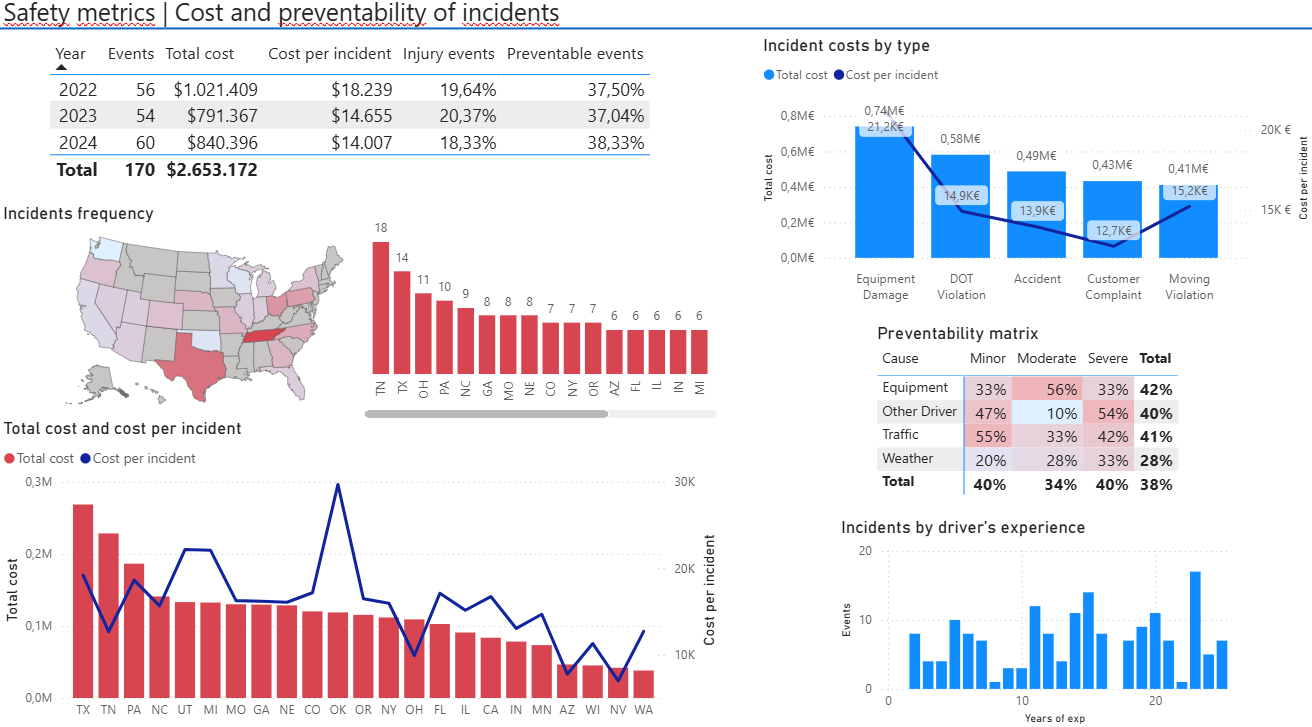

Layout of this report page (visuals, bound fields, positions):
{"tool":"powerbi","page":{"name":"SM","canvas":[1280,720],"ordinal":3},"visuals":[{"type":"textbox","box":[0,0,1279.7,44.8],"z":0},{"type":"shape","box":[0,32.2,1279.7,12.5],"z":1000},{"type":"tableEx","fields":{"Values":["Safety_year_aggregation.incident_year","Sum(Safety_year_aggregation.events)","Sum(Safety_year_aggregation.total_cost)","Safety_year_aggregation.cost_per_incident","Safety_year_aggregation.%_injury_events","Safety_year_aggregation.%_preventable_events"]},"box":[45.2,45.2,612.3,163.3],"z":2000},{"type":"shapeMap","title":"Incidents frequency","fields":{"Category":["Safety_state.location_state"],"Value":["Sum(Safety_state.events)"]},"box":[0,207.8,401.2,209.6],"z":3000},{"type":"lineStackedColumnComboChart","title":"Total cost and cost per incident","fields":{"Category":["Safety_state.location_state"],"Y":["Sum(Safety_state.total_costs)"],"Y2":["Avg(Safety_state.cost_per_event)"]},"box":[0,417.3,703.9,302.7],"z":4000},{"type":"clusteredColumnChart","fields":{"Category":["Safety_state.location_state"],"Y":["Sum(Safety_state.events)"]},"box":[351.3,208.5,352.8,214.3],"z":5000},{"type":"lineStackedColumnComboChart","title":"Incident costs by type","fields":{"Category":["Safety_type.incident_type"],"Y2":["Sum(Safety_type.cost_per_incident)"],"Y":["Sum(Safety_type.total_cost)"]},"box":[738.8,44.8,540.9,267.8],"z":6000},{"type":"pivotTable","title":"Preventability matrix","fields":{"Rows":["Safety_fulljoin.Cause"],"Columns":["Safety_fulljoin.Entity"],"Values":["Safety_fulljoin.Measure 2"]},"box":[850.1,324.9,319,183.8],"z":7000},{"type":"clusteredColumnChart","title":"Incidents by driver''s experience","fields":{"Category":["Safety_fulljoin.years_experience"],"Y":["CountNonNull(Safety_fulljoin.inc_id)"]},"box":[815.1,513.6,388.1,206.2],"z":8000}]}

Visuals, with their boxes in screenshot pixels (x1, y1, x2, y2), scaled from the page's 1280x720 canvas onto the 1312x727 screenshot:
textbox: box=[0, 0, 1311, 45]
shape: box=[0, 33, 1311, 45]
tableEx - Safety_year_aggregation.incident_year x Sum(Safety_year_aggregation.events): box=[46, 46, 674, 211]
"Incidents frequency" shapeMap: box=[0, 210, 411, 421]
"Total cost and cost per incident" lineStackedColumnComboChart: box=[0, 421, 721, 726]
clusteredColumnChart - Safety_state.location_state x Sum(Safety_state.events): box=[360, 211, 722, 427]
"Incident costs by type" lineStackedColumnComboChart: box=[757, 45, 1311, 316]
"Preventability matrix" pivotTable: box=[871, 328, 1198, 514]
"Incidents by driver''s experience" clusteredColumnChart: box=[835, 519, 1233, 726]
